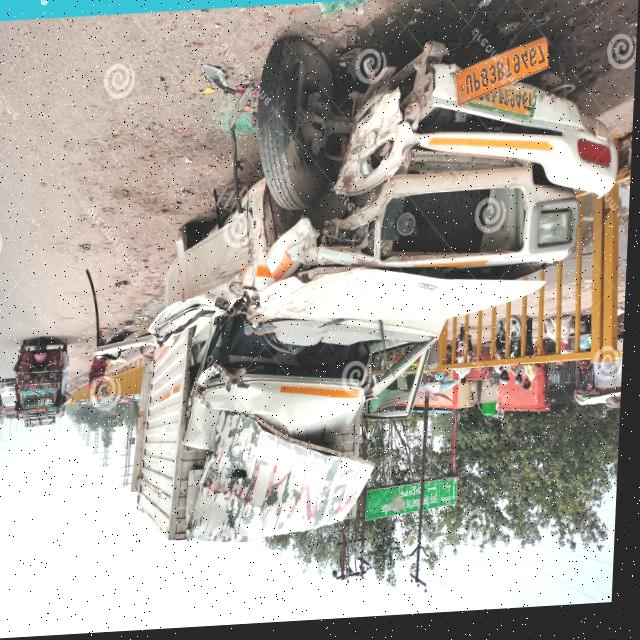plate: (454, 44, 554, 113)
